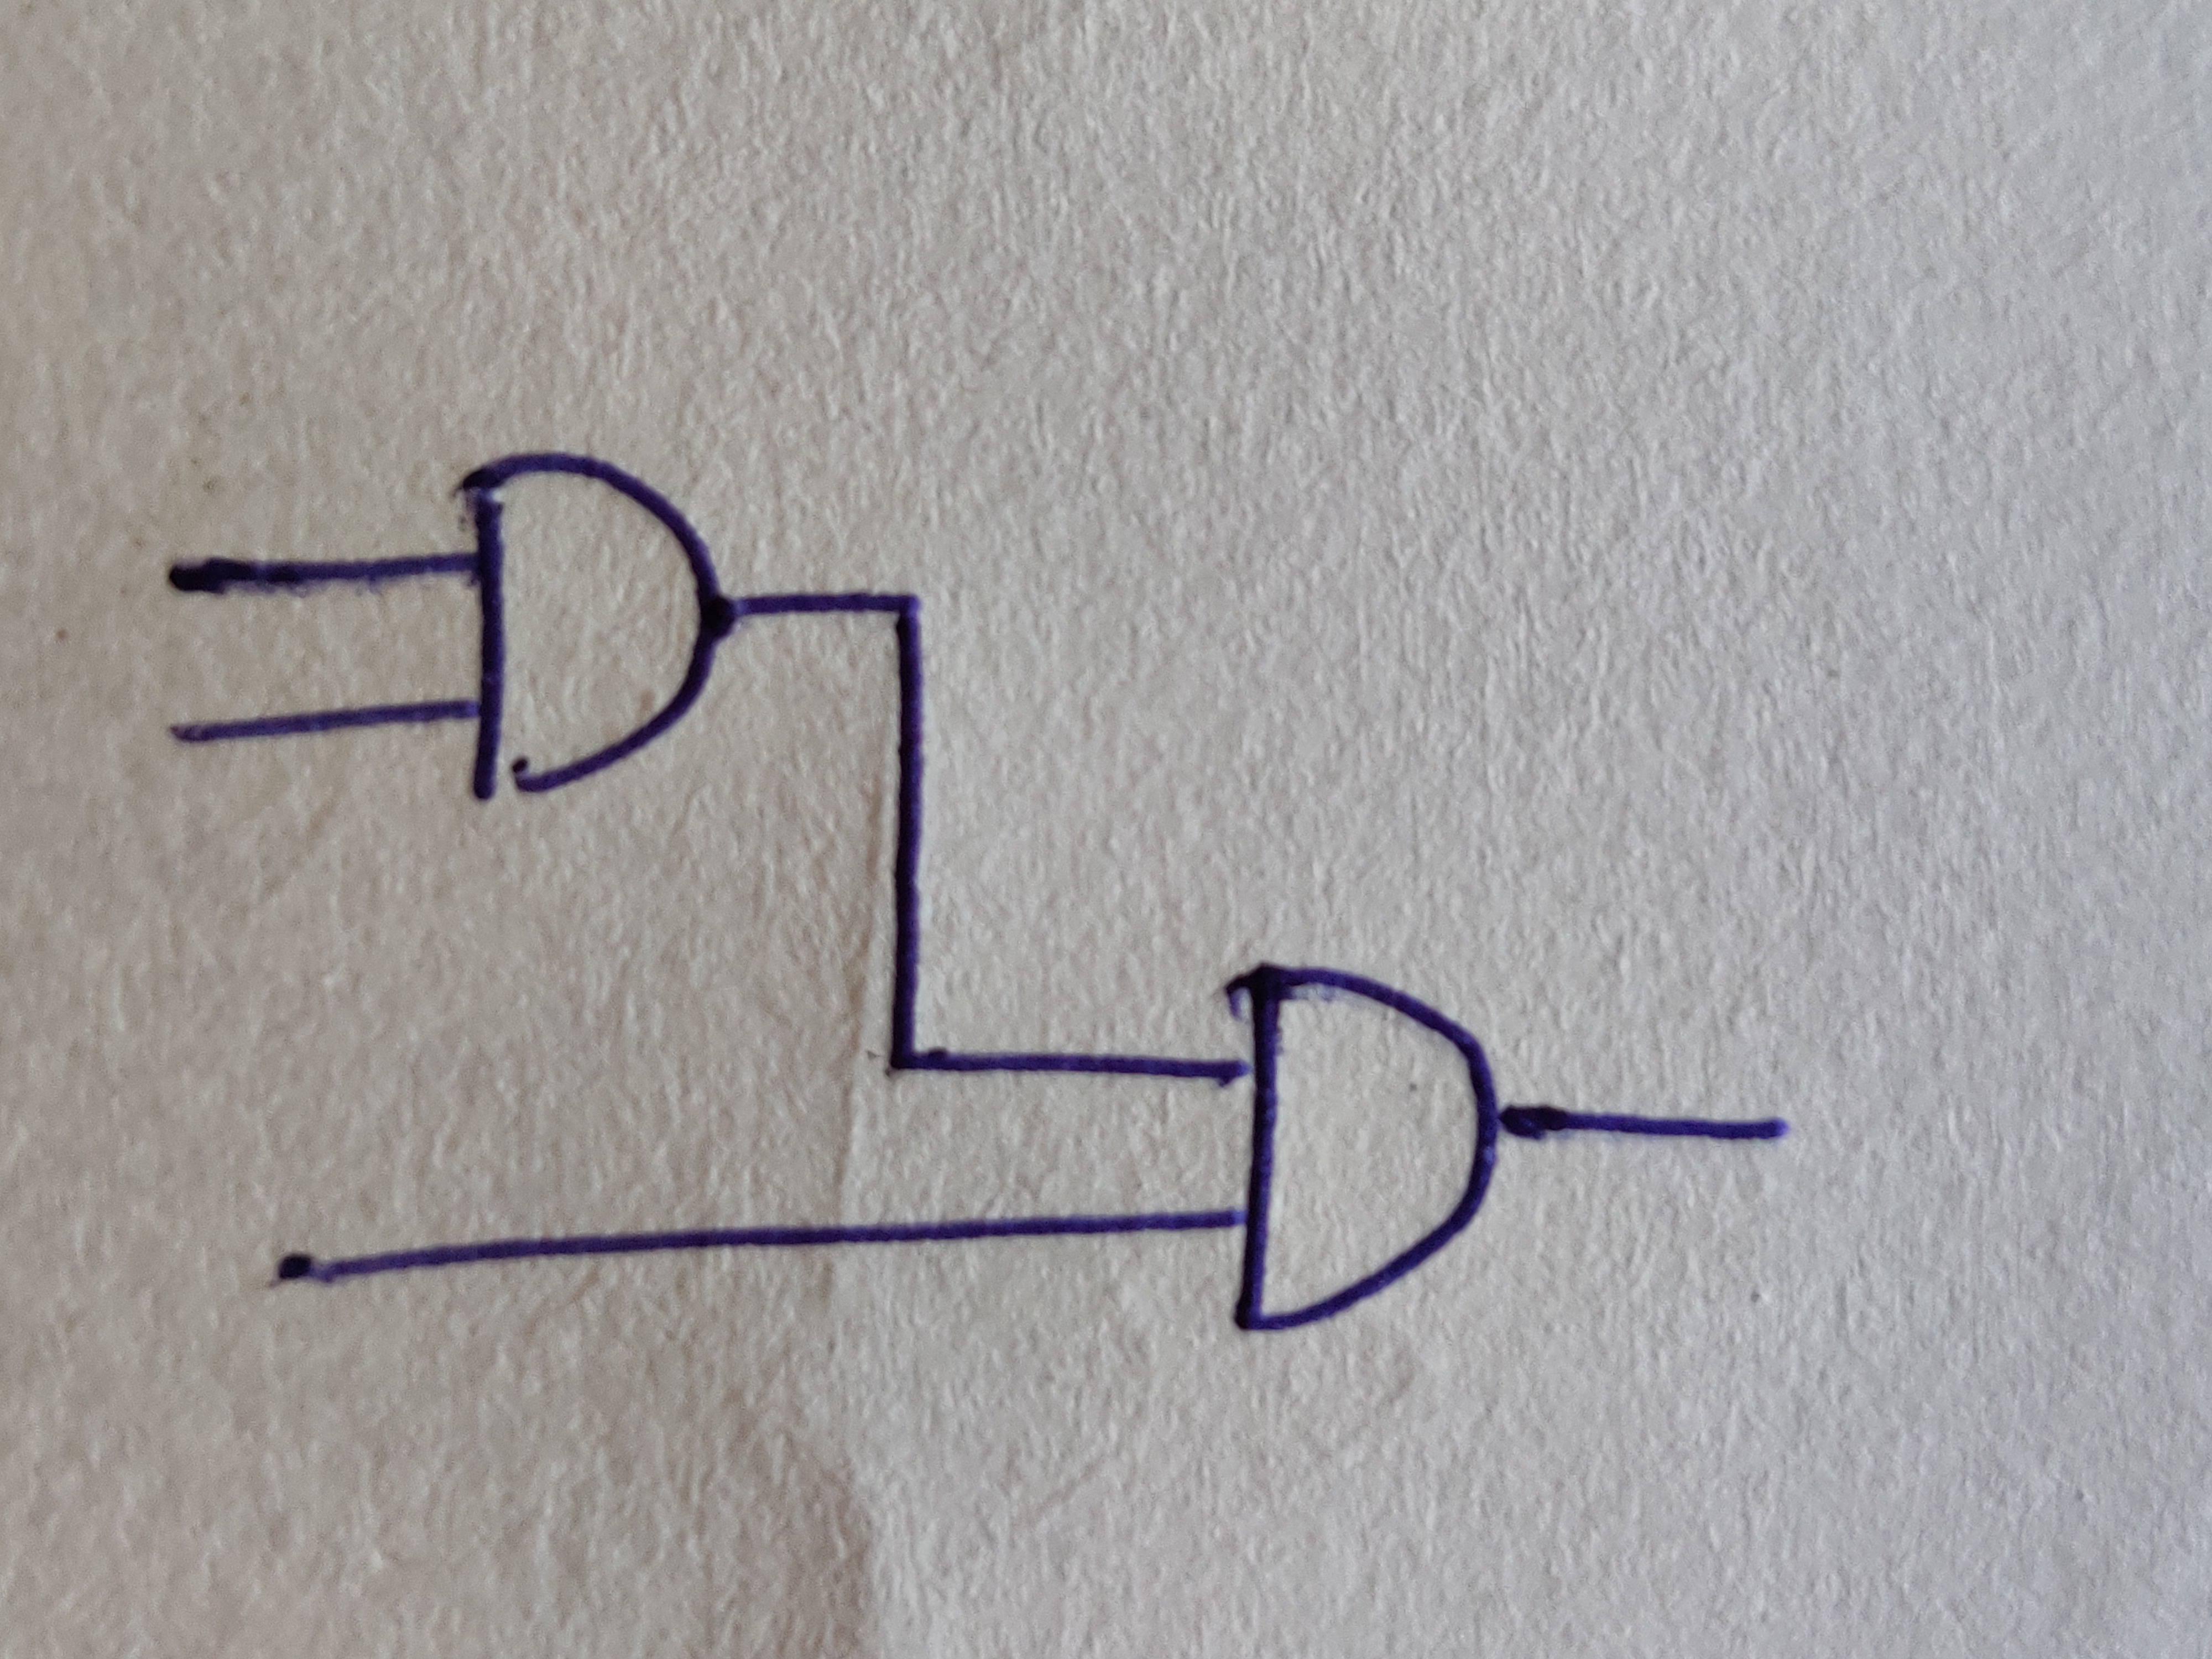and: (1226, 964, 1498, 1333), (462, 451, 721, 803)
